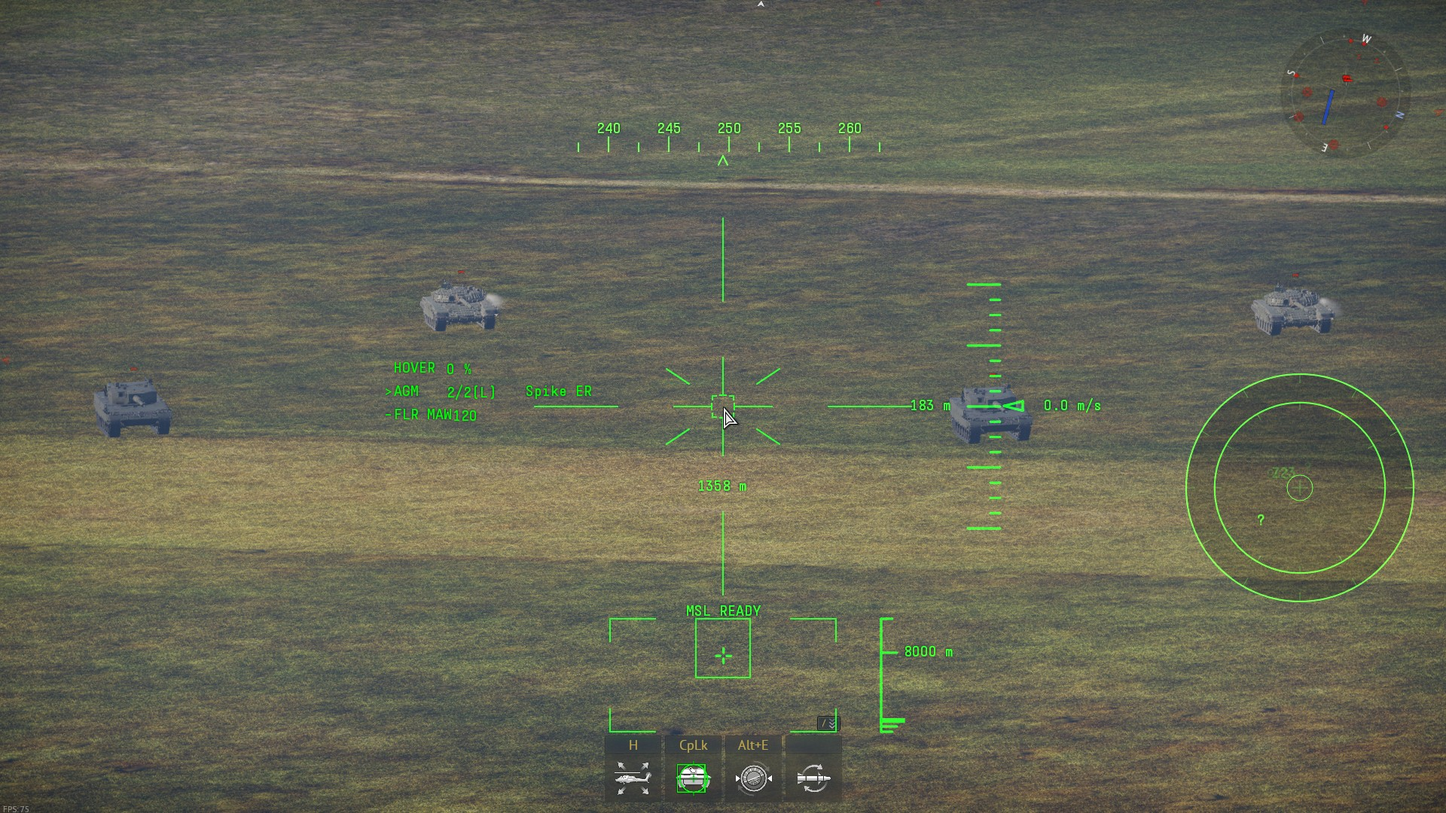leopard2: (949, 383, 1032, 444), (94, 378, 171, 438)
t72b: (1251, 287, 1335, 336), (420, 282, 498, 331)
